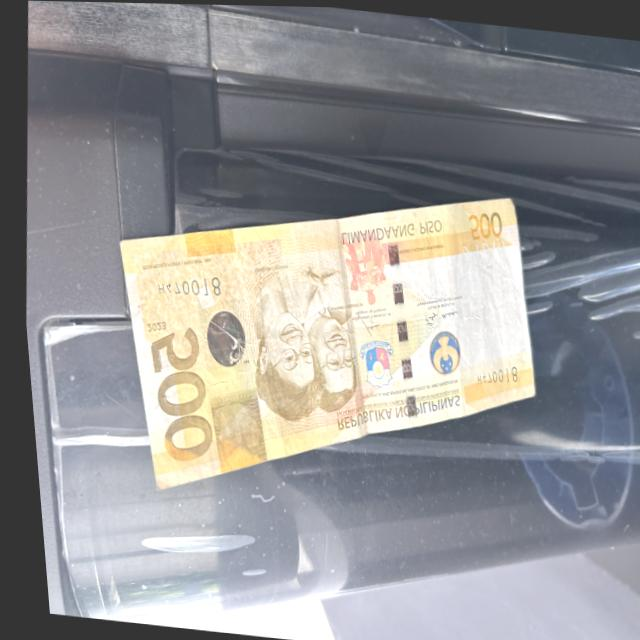concealed_value: (197, 386, 268, 475)
optically_variable_device: (194, 309, 244, 366)
watermark: (430, 231, 527, 378)
